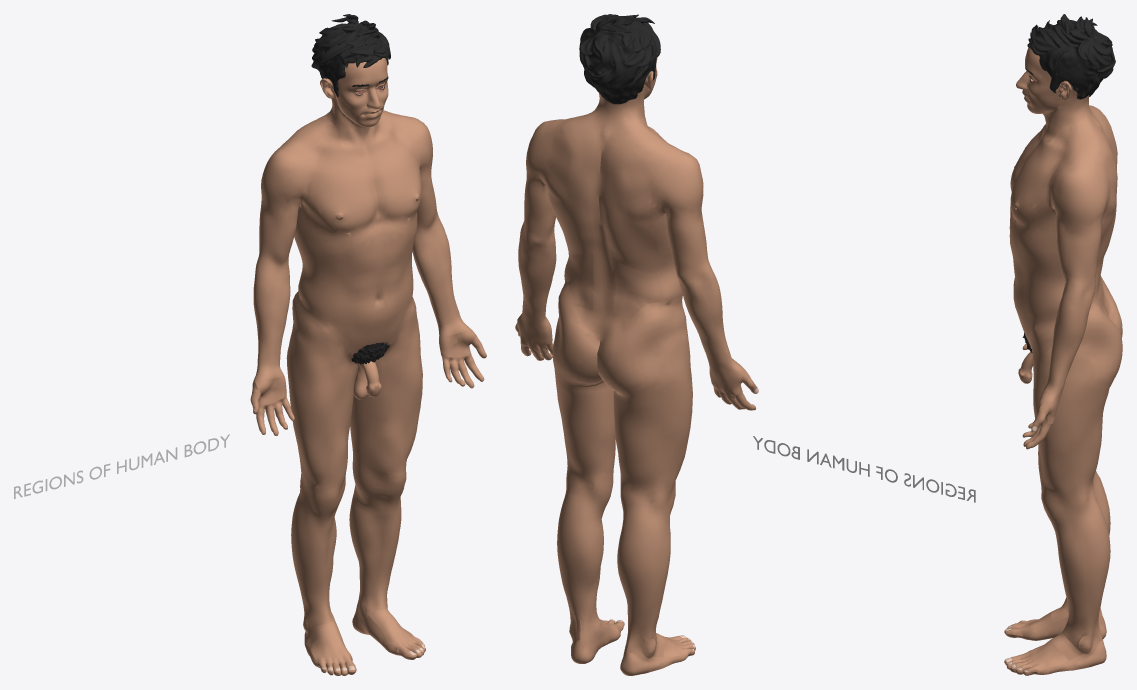
The model's file is regions.glb.
The picture shows the model from 3 angles, left to right: view 1: azimuth 30°, elevation 25°; view 2: azimuth 150°, elevation 25°; view 3: azimuth 270°, elevation 25°; orthographic projection. The views are drawn at different scales.
Parts seen in each view (by area): view 1: Anterior region of thigh.r.001, Anterior region of thigh.l.001, Hairs of head.001, Anterior region of leg.l.001, Anterior region of leg.r.001, Pectoral region.r.001, Deltoid region.r.001, Anterior region of forearm.l.001, Anterior region of forearm.r.001, Lateral region of thorax.r.001, Lateral region of abdomen.r.001, Pectoral region.l.001 (+20 smaller); view 2: Posterior region of thigh.r.001, Hairs of head.001, Gluteal region.r.001, Posterior region of thigh.l.001, Posterior region of leg.r.001, Posterior region of leg.l.001, Gluteal region.l.001, Scapular region.r.001, Posterior region of arm.r.001, Infrascapular region.r.001, Scapular region.l.001, Posterior region of forearm.r.001 (+20 smaller); view 3: Hairs of head.001, Anterior region of thigh.l.001, Posterior region of thigh.l.001, Deltoid region.l.001, Gluteal region.l.001, Posterior region of leg.l.001, Lateral region of thorax.l.001, Anterior region of leg.l.001, Lateral region of abdomen.l.001, Pectoral region.l.001, Posterior region of arm.l.001, Posterior region of neck.l.001 (+44 smaller).
Boxes of the visible parts, x1,y1,x2,y2 form: Anterior region of thigh.r.001: [292, 293, 357, 486]; Anterior region of thigh.l.001: [353, 293, 422, 470]; Hairs of head.001: [311, 14, 390, 97]; Anterior region of leg.l.001: [356, 500, 401, 595]; Anterior region of leg.r.001: [296, 515, 336, 609]; Pectoral region.r.001: [311, 159, 372, 233]; Deltoid region.r.001: [261, 135, 308, 209]; Anterior region of forearm.l.001: [413, 234, 461, 326]; Anterior region of forearm.r.001: [256, 276, 290, 368]; Lateral region of thorax.r.001: [294, 174, 351, 256]; Lateral region of abdomen.r.001: [298, 264, 351, 324]; Pectoral region.l.001: [379, 139, 420, 219]; Posterior region of thigh.r.001: [613, 380, 686, 489]; Hairs of head.001: [579, 14, 660, 104]; Gluteal region.r.001: [597, 301, 677, 397]; Posterior region of thigh.l.001: [553, 362, 615, 477]; Posterior region of leg.r.001: [617, 526, 667, 633]; Posterior region of leg.l.001: [557, 510, 602, 620]; Gluteal region.l.001: [552, 277, 603, 384]; Scapular region.r.001: [615, 148, 671, 221]; Posterior region of arm.r.001: [659, 187, 706, 268]; Infrascapular region.r.001: [607, 211, 660, 272]; Scapular region.l.001: [534, 128, 577, 205]; Posterior region of forearm.r.001: [679, 283, 732, 364]; Hairs of head.001: [1027, 14, 1115, 99]; Anterior region of thigh.l.001: [1031, 312, 1068, 494]; Posterior region of thigh.l.001: [1065, 387, 1109, 493]; Deltoid region.l.001: [1050, 153, 1103, 228]; Gluteal region.l.001: [1076, 304, 1122, 390]; Posterior region of leg.l.001: [1076, 518, 1110, 627]; Lateral region of thorax.l.001: [1013, 178, 1112, 264]; Anterior region of leg.l.001: [1055, 532, 1082, 627]; Lateral region of abdomen.l.001: [1020, 267, 1064, 318]; Pectoral region.l.001: [1010, 153, 1054, 224]; Posterior region of arm.l.001: [1077, 192, 1107, 280]; Posterior region of neck.l.001: [1066, 95, 1104, 154].
Size of the model in its own units: 1.34 by 1.74 by 0.294.
